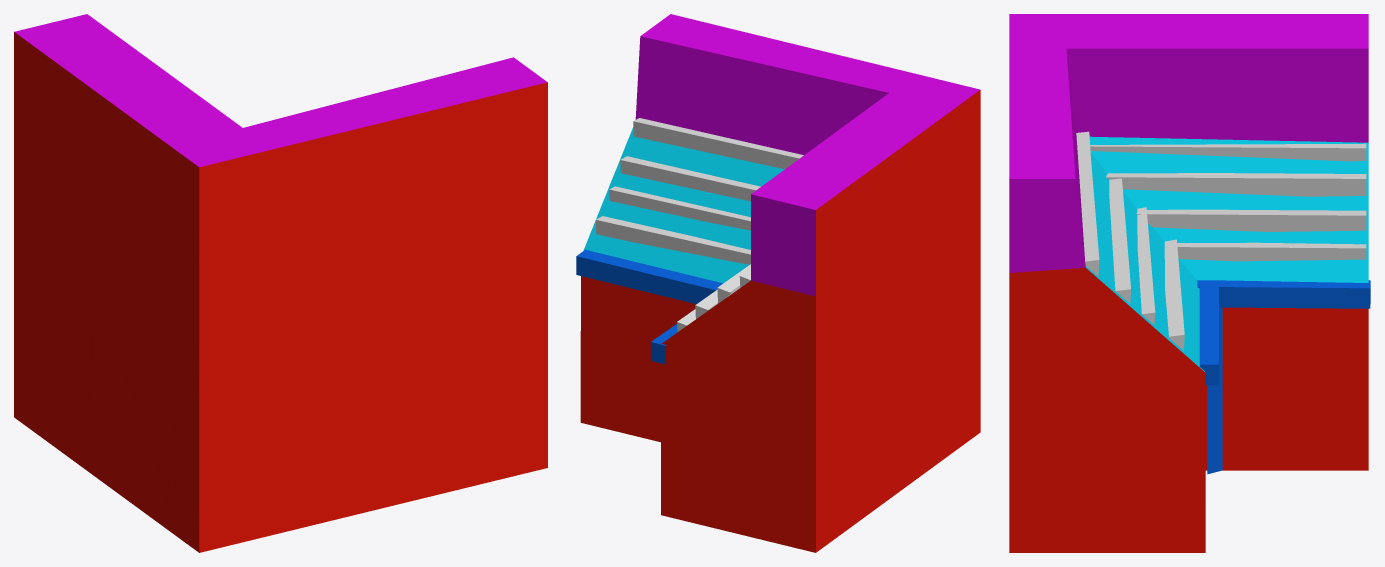
The model's file is canto.fbx.
3 views of the same model, side by side, from view 1: azimuth 30°, elevation 25°; view 2: azimuth 150°, elevation 25°; view 3: azimuth 270°, elevation 25° (orthographic). The views are drawn at different scales.
Visible parts, largest first — view 1: Cube.013; view 2: Cube.013; view 3: Cube.013.
Boxes of the visible parts, x1,y1,x2,y2 form: Cube.013: (14, 14, 547, 552); Cube.013: (576, 14, 980, 552); Cube.013: (1009, 14, 1370, 552).
Size of the model in its own units: 500 by 529 by 463.
